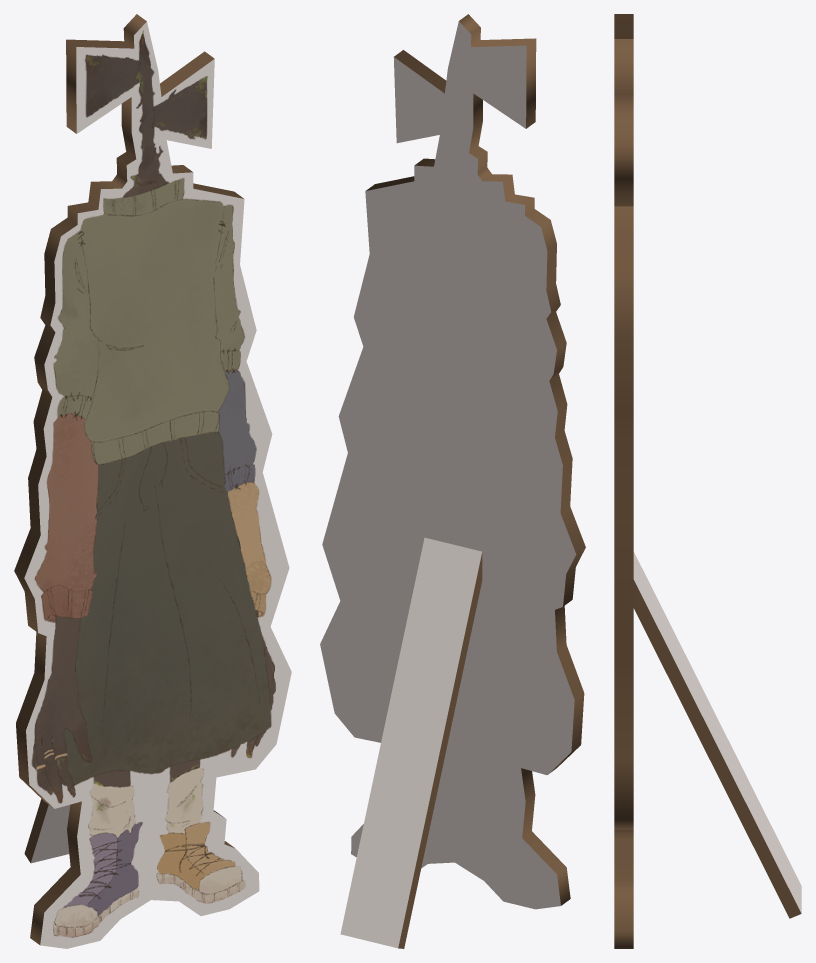
The model's file is HesaFrida_Neutral.fbx.
3 views of the same model, side by side, from view 1: azimuth 30°, elevation 25°; view 2: azimuth 150°, elevation 25°; view 3: azimuth 270°, elevation 25° (orthographic). The views are drawn at different scales.
Parts seen in each view (by area): view 1: HesaFrida_Neutral; view 2: HesaFrida_Neutral; view 3: HesaFrida_Neutral.
Boxes of the visible parts, <box> form: HesaFrida_Neutral: <box>14,14,291,948</box>; HesaFrida_Neutral: <box>320,14,585,948</box>; HesaFrida_Neutral: <box>614,14,801,948</box>.
Bounding box in the file's own units: 61.68 × 200 × 39.1.
